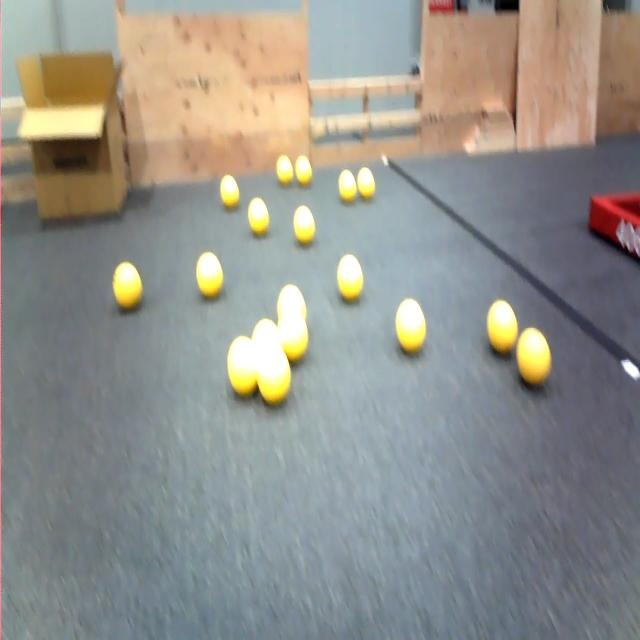fuel: (219, 327, 265, 408), (102, 250, 150, 325), (510, 311, 554, 389), (477, 284, 522, 356), (187, 246, 234, 302), (274, 306, 317, 367), (391, 292, 426, 366), (335, 243, 372, 313), (254, 343, 297, 403), (245, 176, 277, 248), (208, 159, 243, 224), (289, 196, 321, 258), (248, 316, 284, 351), (276, 277, 310, 314), (356, 158, 382, 204), (334, 160, 358, 207), (297, 150, 317, 193), (276, 153, 296, 190)
